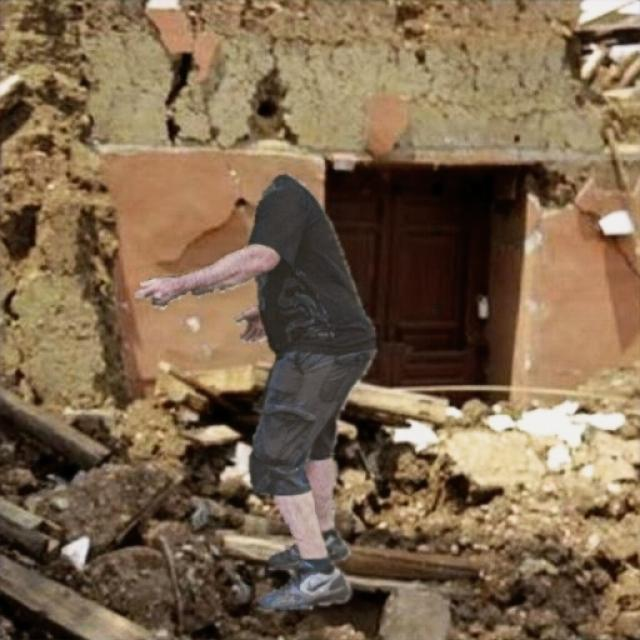Person in Rubble: (135, 174, 376, 610)
